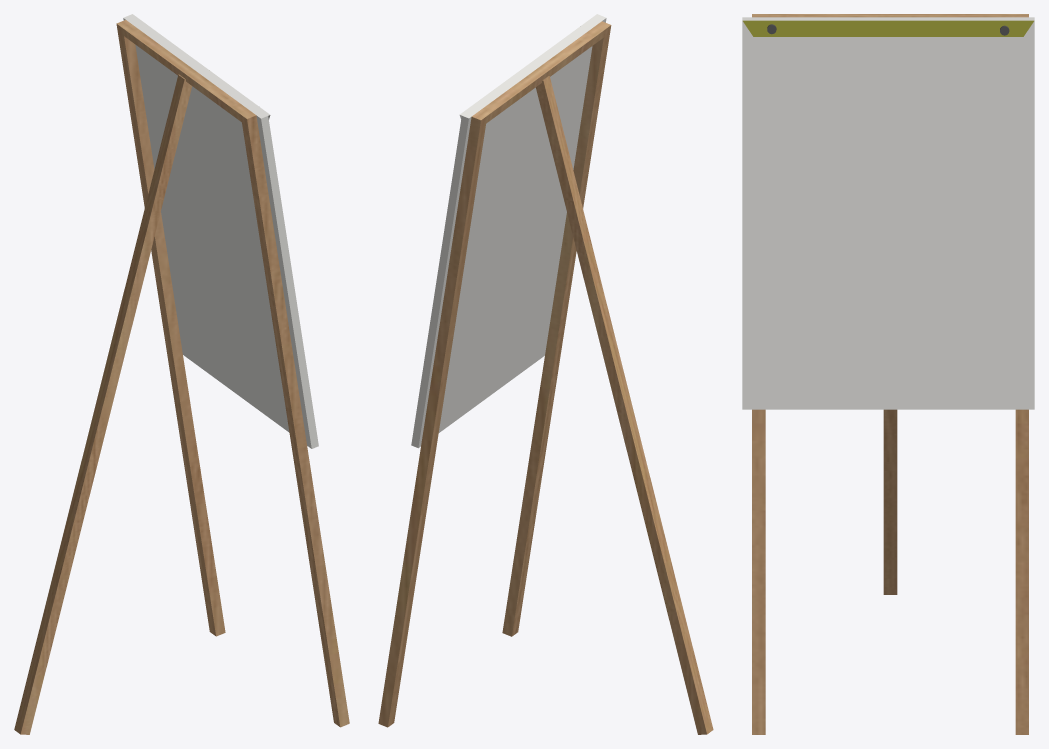
File: canvas.fbx
3 views of the same model, side by side, from view 1: azimuth 30°, elevation 25°; view 2: azimuth 150°, elevation 25°; view 3: azimuth 270°, elevation 25° (orthographic). The views are drawn at different scales.
Parts seen in each view (by area): view 1: polySurface10, Group_001, Group_003; view 2: polySurface10, Group_001, Group_003; view 3: polySurface10, Group_001, polySurface14, Group_003.
Part boxes in pixels (x1,y1,x2,y2): polySurface10: (123,14,318,448); Group_001: (116,20,349,727); Group_003: (14,74,192,734); polySurface10: (411,14,606,448); Group_001: (378,21,611,727); Group_003: (536,76,713,734); polySurface10: (742,17,1034,409); Group_001: (752,14,1028,734); polySurface14: (743,20,1033,36); Group_003: (883,409,897,594).
Bounding box in the file's own units: 70.05 × 159 × 62.6.
6 materials, 3 textured.
